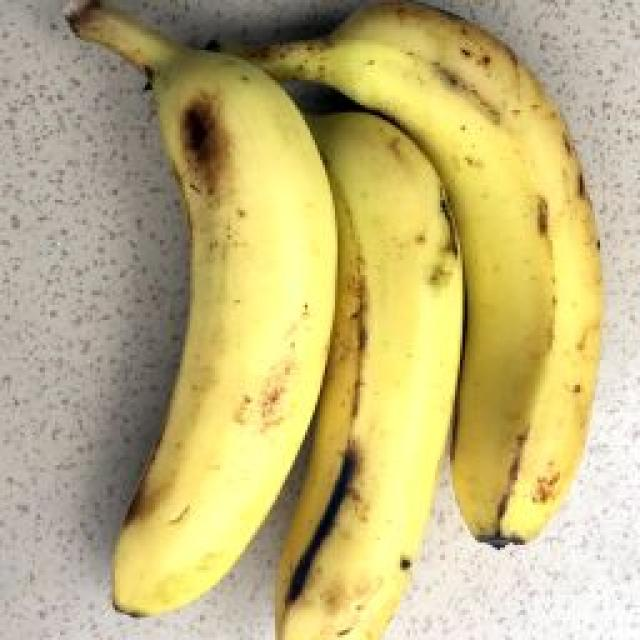banana: (21, 38, 518, 579)
